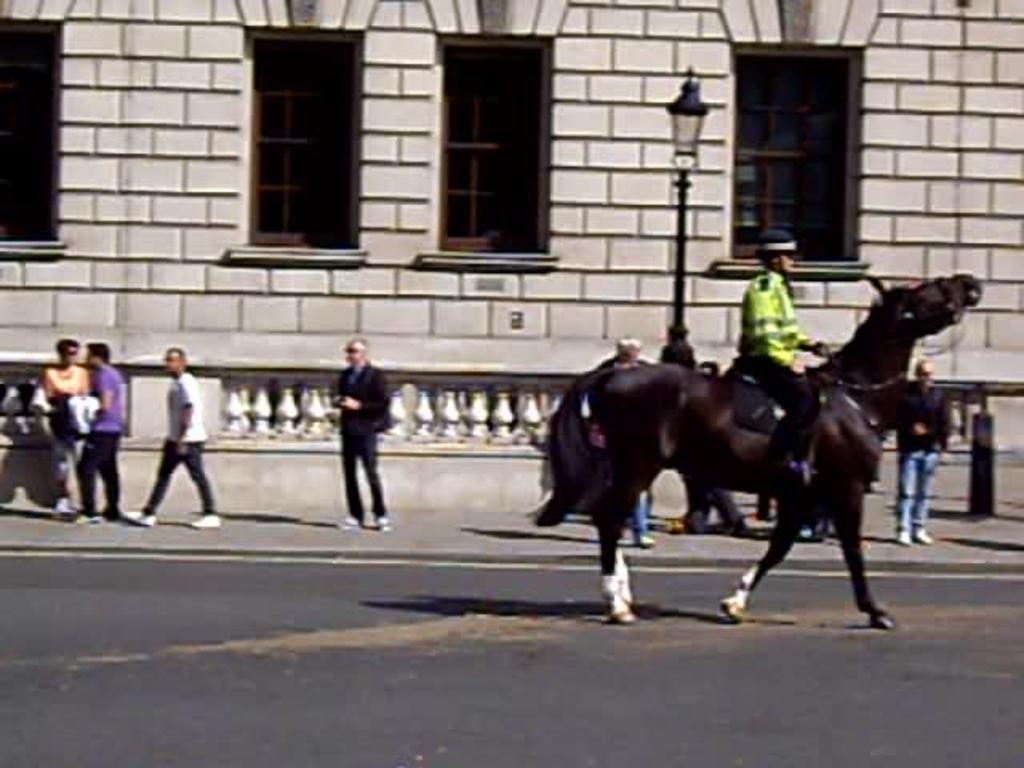horse: (533, 270, 983, 631)
